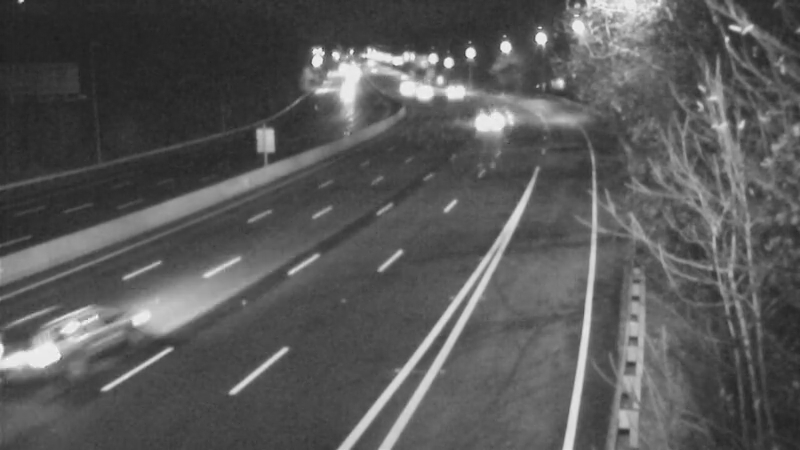vehicle: (23, 278, 133, 388), (377, 64, 427, 114), (422, 67, 472, 117), (402, 68, 452, 118), (456, 94, 506, 144)
